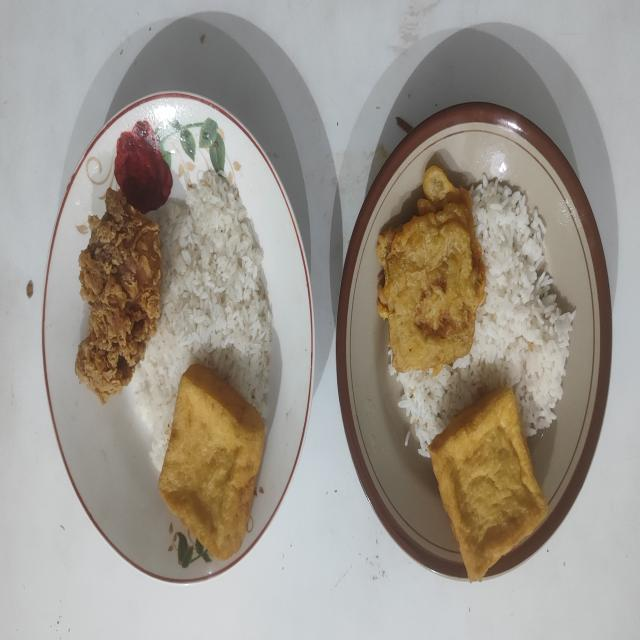nasi_putih: (390, 178, 575, 456), (133, 170, 273, 470)
tahu_goreng: (429, 388, 548, 581), (159, 365, 265, 560)
